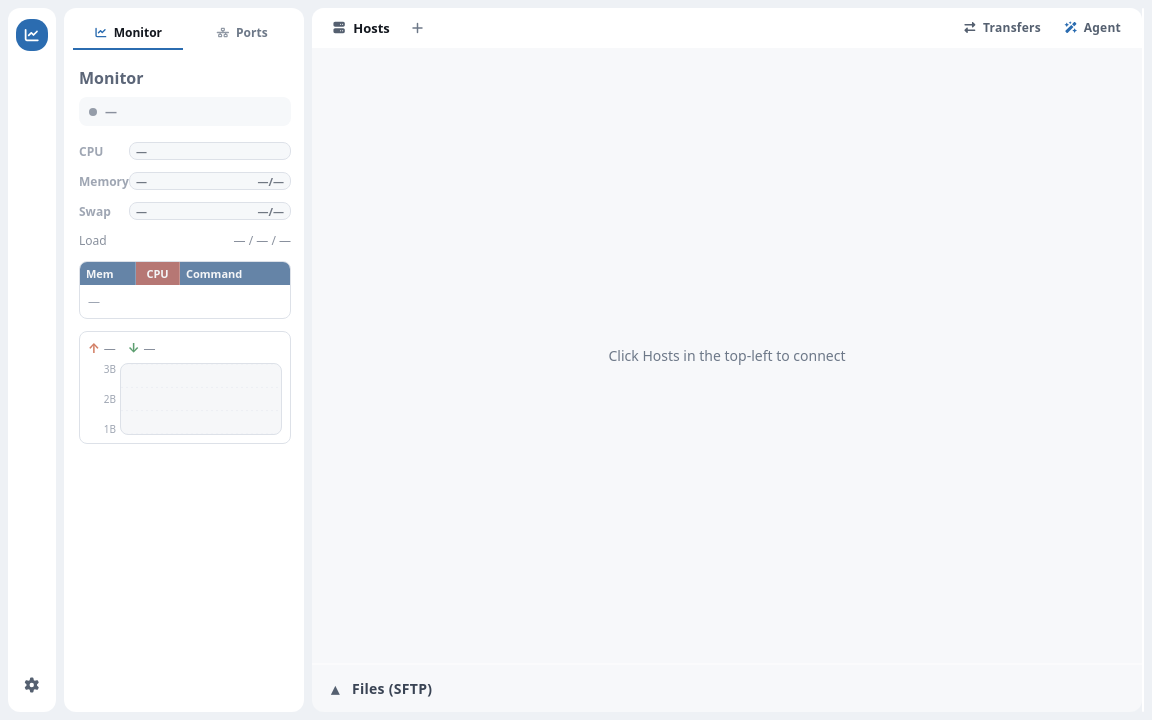
Scenario: Session Terminal Persistence › treats a repeated remote close as idempotent and does not dispose the waiting tab
What coordinates should you click on to do the following:
click the button "Hosts"
I would click on:
 (360, 28)
Its box is [320,12,401,42].
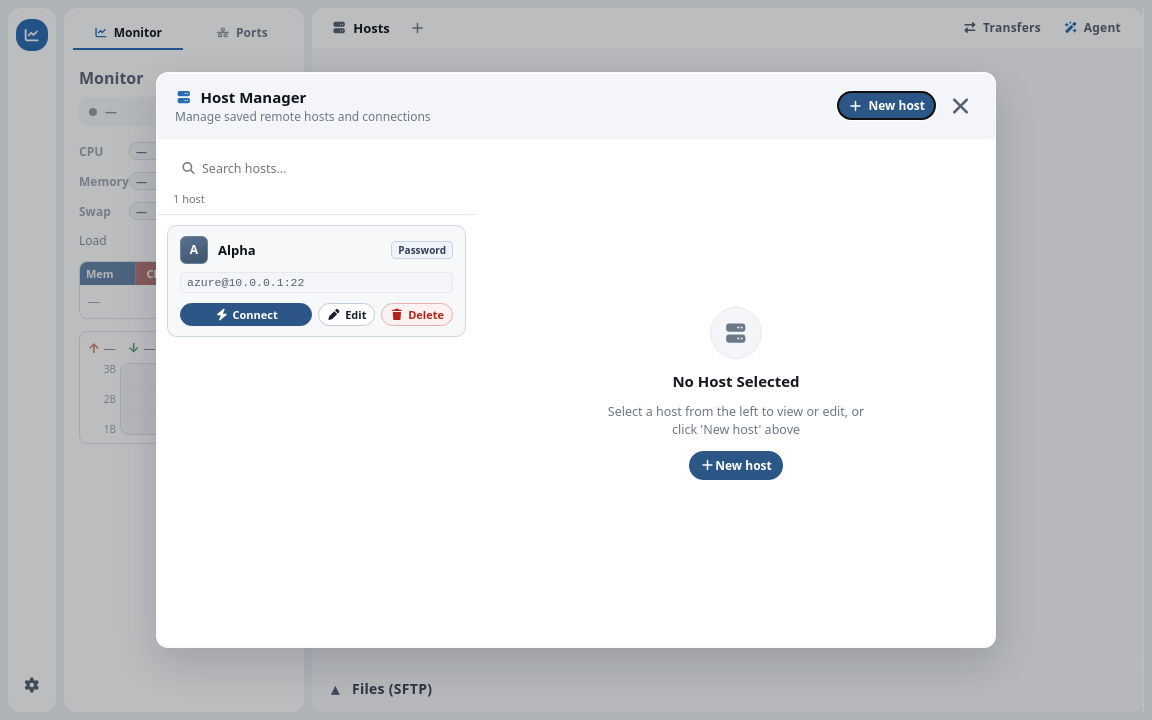
What coordinates should you click on to do the following:
click the button "Connect"
I would click on:
 (246, 314)
Its box is [180,303,312,326].
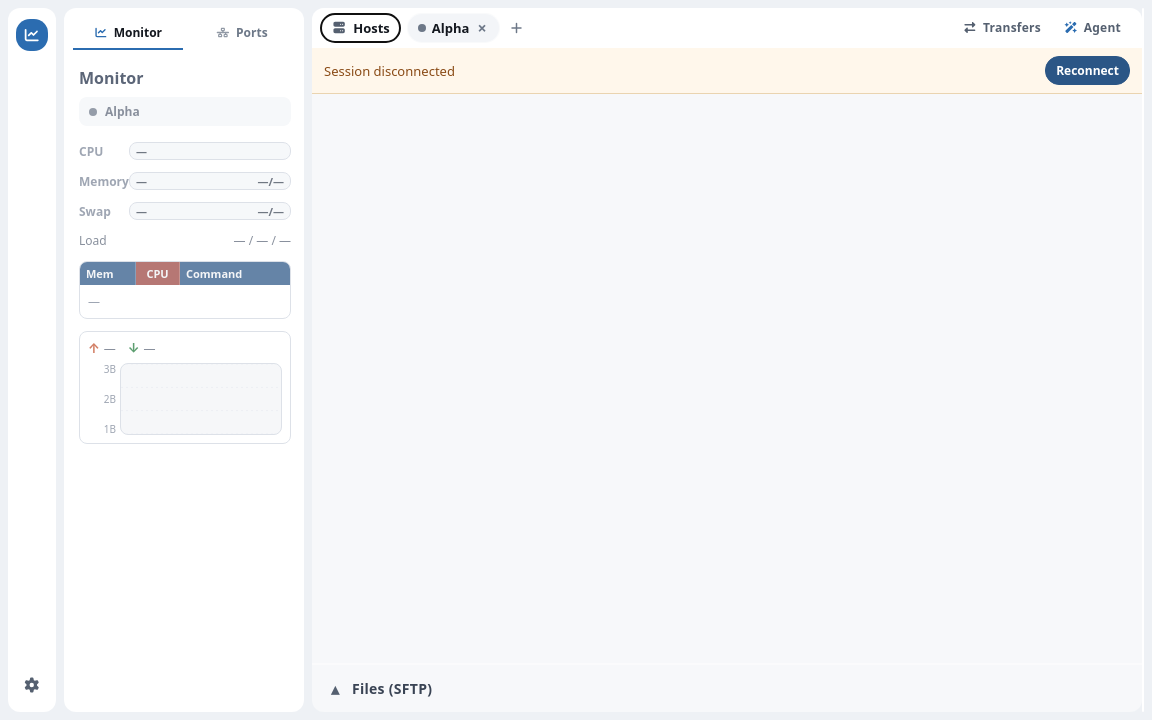
Expected: the tab "Alpha ×" is shown, [407,12,500,42]
Expected: the button "Reconnect" is shown, [1045,56,1130,85]
